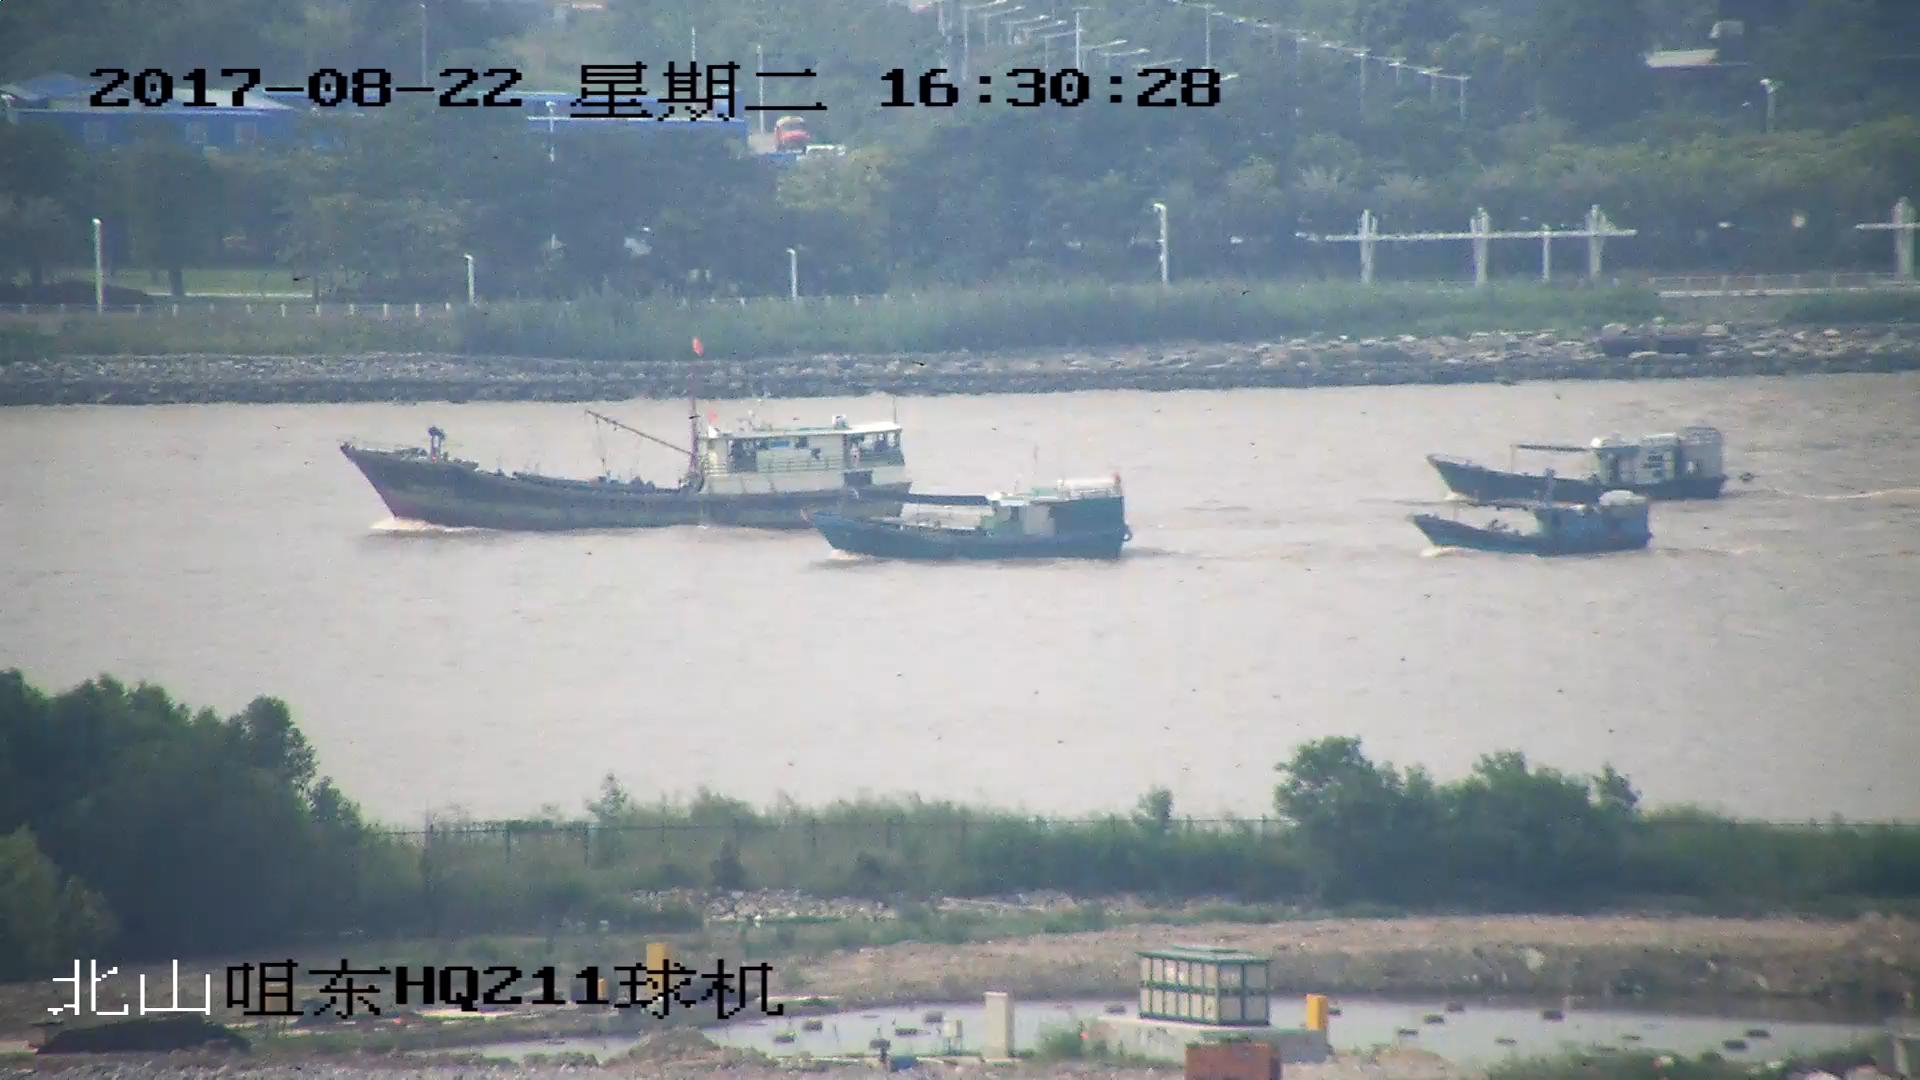fishing boat: (344, 350, 912, 533), (808, 469, 1131, 561), (1427, 418, 1716, 507), (1419, 491, 1651, 554)
